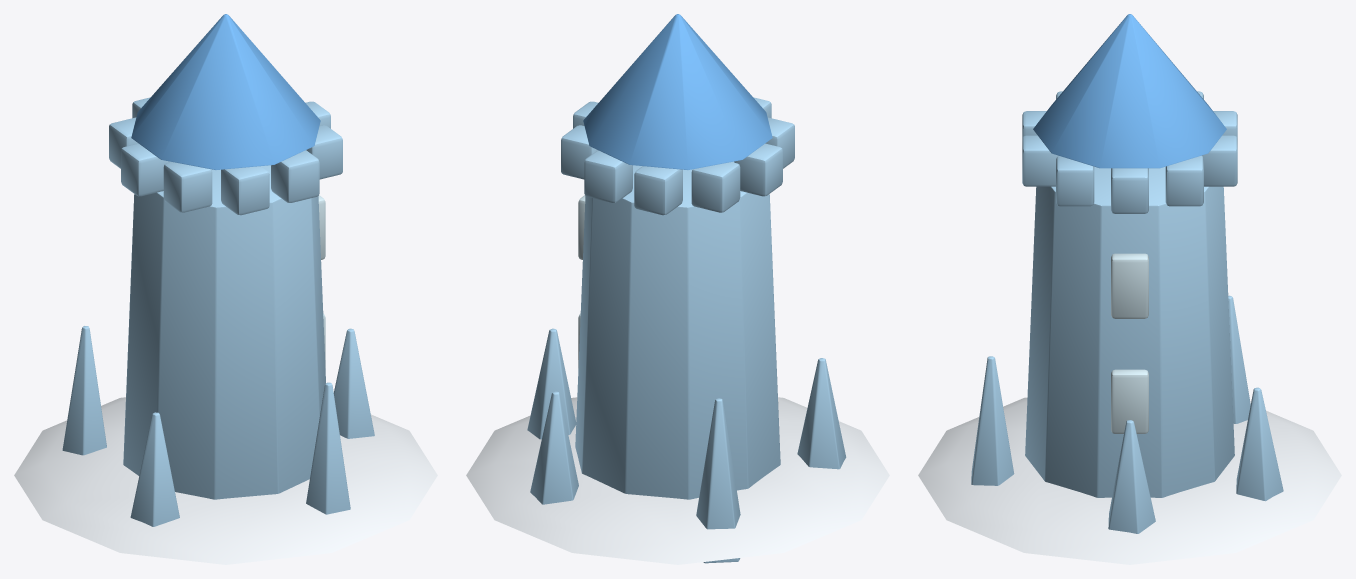
Rendered from HeroIce.fbx.
The picture shows the model from 3 angles, left to right: view 1: azimuth 30°, elevation 25°; view 2: azimuth 150°, elevation 25°; view 3: azimuth 270°, elevation 25°; orthographic projection.
Parts seen in each view (by area): view 1: HeroIce; view 2: HeroIce; view 3: HeroIce.
Part boxes in pixels (box(x1,y1,x2,y2)): HeroIce: box(14, 14, 437, 564); HeroIce: box(466, 14, 889, 564); HeroIce: box(918, 14, 1341, 564).
Bounding box in the file's own units: 1000 × 1260 × 1000.
